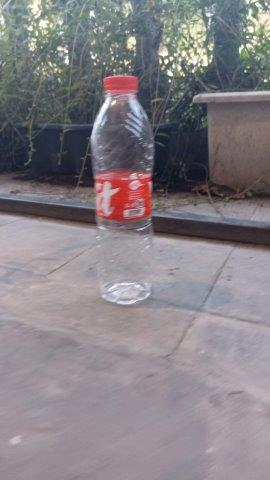botolplastik: (90, 76, 158, 306)
